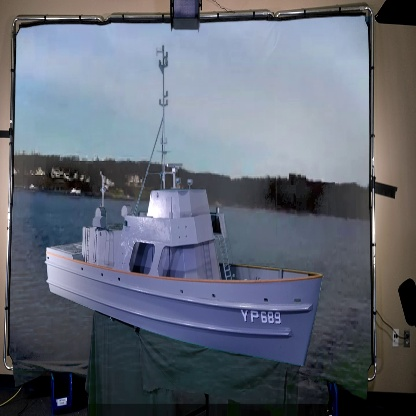YP689: (43, 47, 333, 370)
